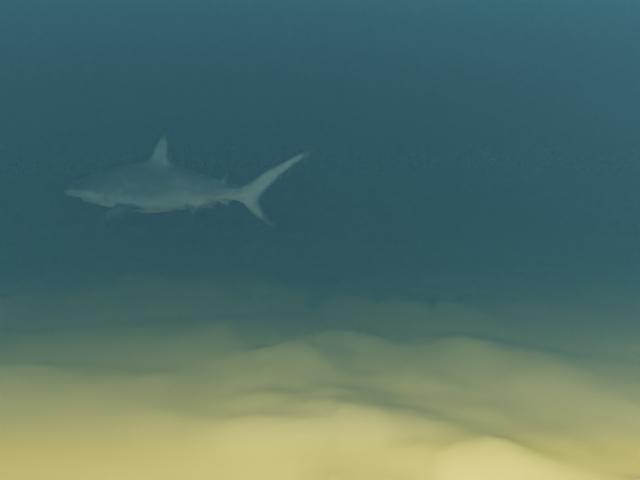Carribean Shark.001: (64, 132, 317, 226)
